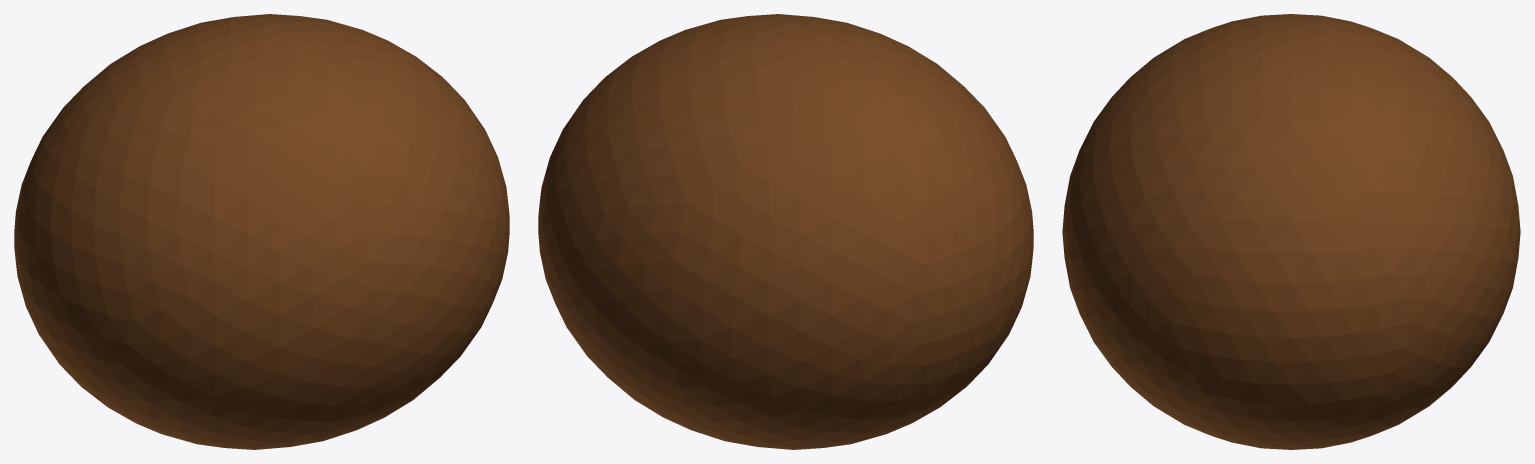
File: head.obj
The picture shows the model from 3 angles, left to right: view 1: azimuth 30°, elevation 25°; view 2: azimuth 150°, elevation 25°; view 3: azimuth 270°, elevation 25°; orthographic projection.
Size of the model in its own units: 0.19 by 0.16 by 0.174.
